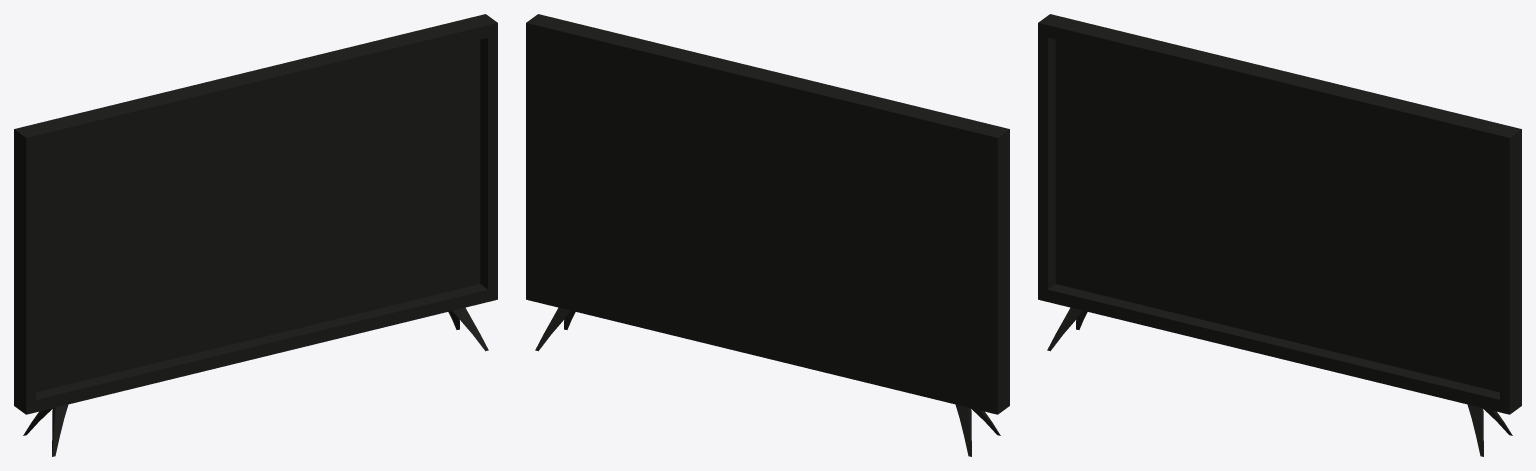
File: multimedia_dvd_monitor.fbx
The picture shows the model from 3 angles, left to right: view 1: azimuth 30°, elevation 25°; view 2: azimuth 150°, elevation 25°; view 3: azimuth 330°, elevation 25°; orthographic projection.
Parts seen in each view (by area): view 1: multimedia_dvd_monitor; view 2: multimedia_dvd_monitor; view 3: multimedia_dvd_monitor.
Part boxes in pixels (x1,y1,x2,y2): multimedia_dvd_monitor: (14, 14, 497, 456); multimedia_dvd_monitor: (526, 14, 1009, 456); multimedia_dvd_monitor: (1038, 14, 1521, 456).
Bounding box in the file's own units: 0.00628 × 0.00403 × 0.000671.
Materials: 1 (1 with a texture image).
